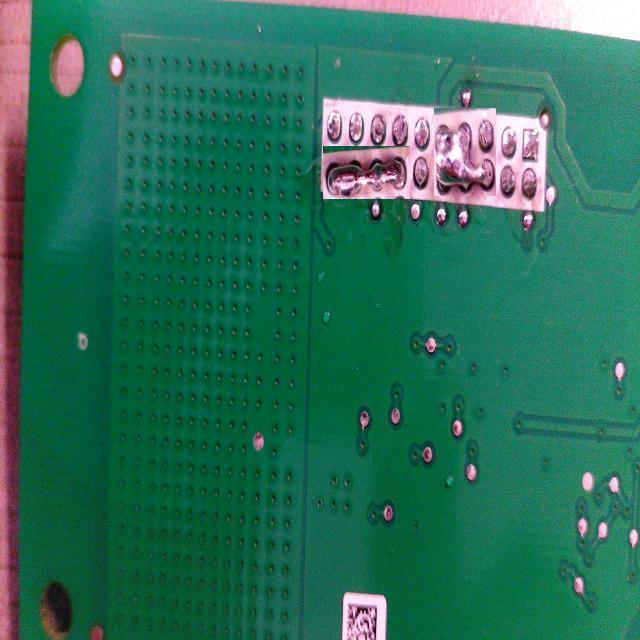Short_circuit: (434, 108, 496, 196), (323, 146, 410, 199)
